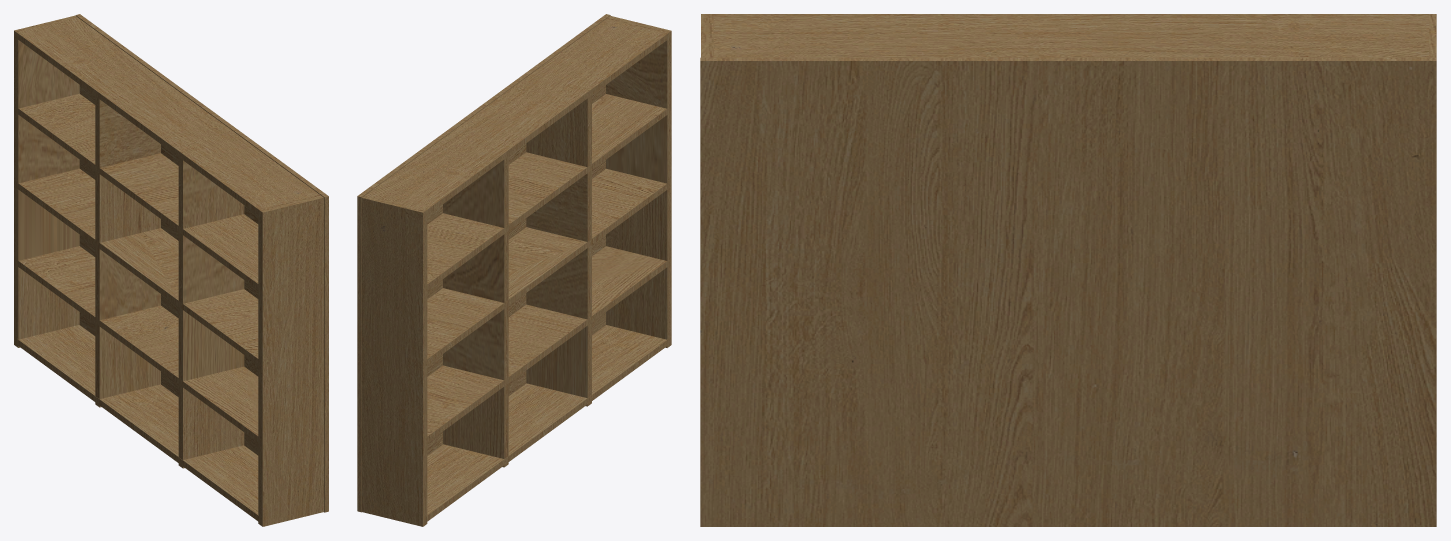
File: Shelf4.glb
3 views of the same model, side by side, from view 1: azimuth 30°, elevation 25°; view 2: azimuth 150°, elevation 25°; view 3: azimuth 270°, elevation 25° (orthographic). The views are drawn at different scales.
Visible parts, largest first — view 1: SM_MERGED_StaticMeshActor_222; view 2: SM_MERGED_StaticMeshActor_222; view 3: SM_MERGED_StaticMeshActor_222.
Boxes of the visible parts, x1,y1,x2,y2 form: SM_MERGED_StaticMeshActor_222: [14, 14, 328, 526]; SM_MERGED_StaticMeshActor_222: [357, 14, 671, 526]; SM_MERGED_StaticMeshActor_222: [700, 14, 1436, 526].
Bounding box in the file's own units: 0.6956 × 3.17 × 4.54.
Materials: 1 (1 with a texture image).
